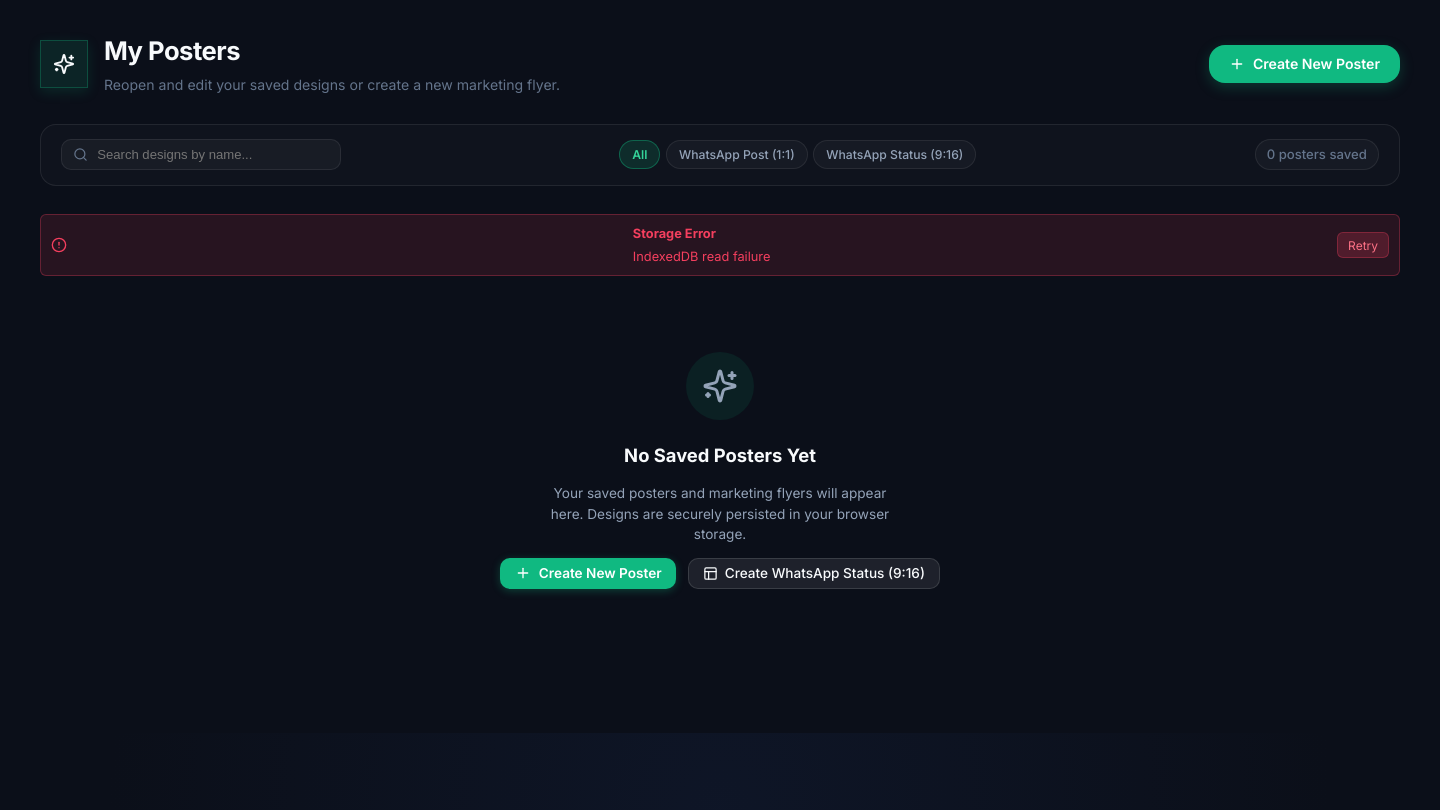
Test: Phase 3B: Gallery-First Landing Screen Integration Tests › 7. Empty, Loading, and Storage Error States › surfaces storage error and provides functional Retry button
Expected: the text "Storage Error" is shown, 633,226 -> 716,241
Expected: the text "IndexedDB read failure" is shown, 633,247 -> 770,266
Click the button "Retry" at (1363, 245), box 1337,232 -> 1389,258
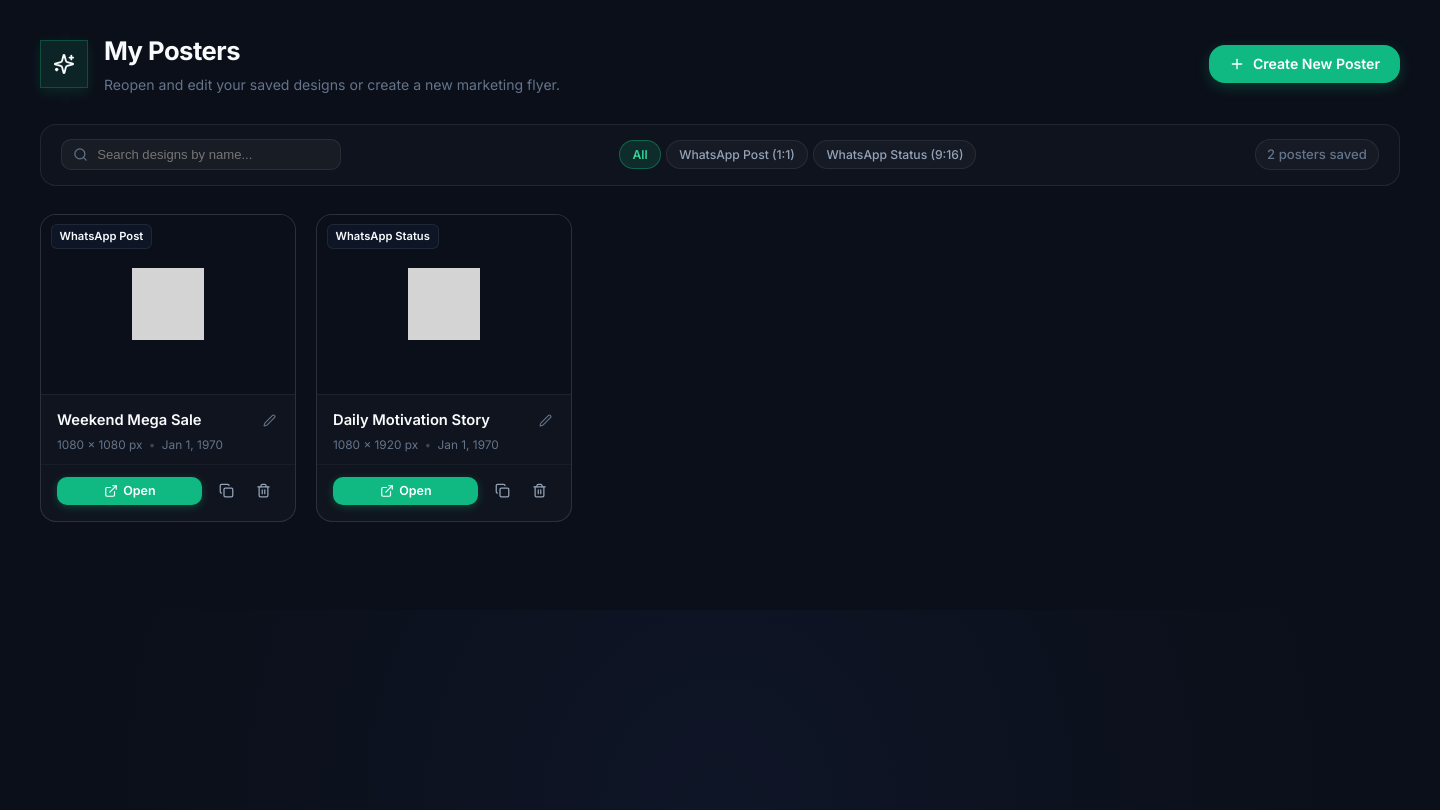
Expected: the heading "Weekend Mega Sale" is shown, 57,409 -> 202,431
